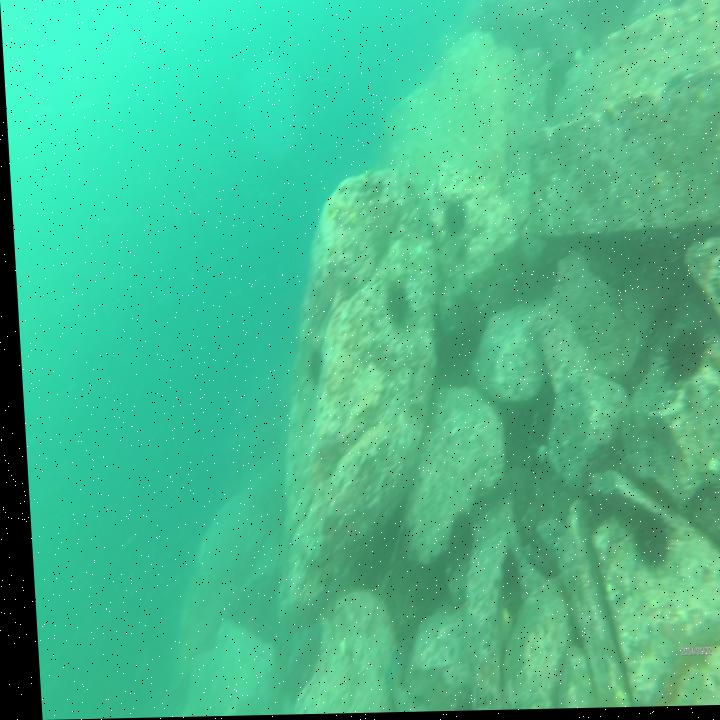echinus: (655, 321, 718, 395), (437, 511, 469, 575), (625, 517, 663, 570), (489, 553, 517, 624), (380, 282, 409, 334), (438, 196, 465, 243), (703, 453, 720, 522), (301, 345, 320, 392)
